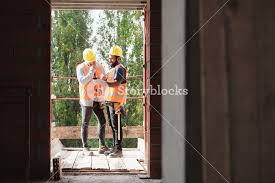helmet: (82, 47, 95, 62), (111, 44, 122, 56)
vest: (82, 66, 106, 106), (110, 68, 134, 104)
